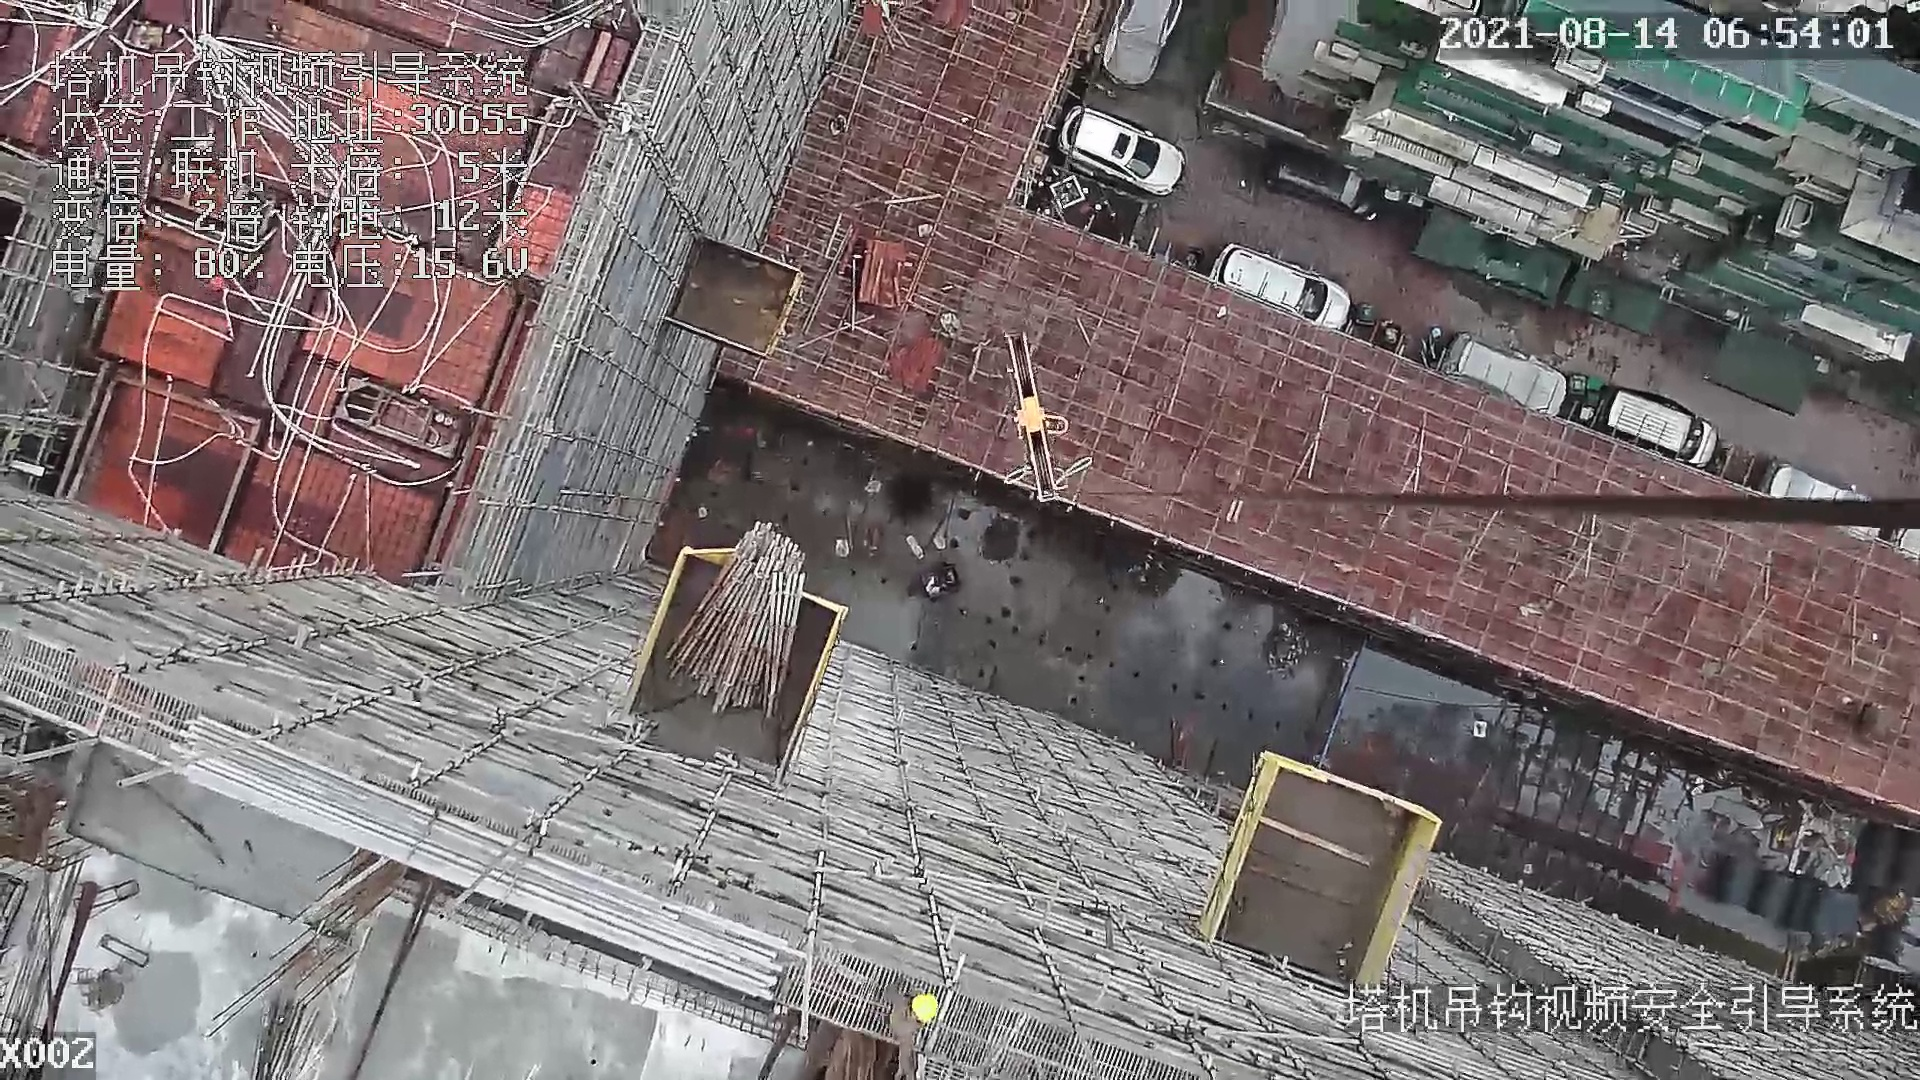helmet: (909, 994, 939, 1025)
hook: (1003, 327, 1068, 492)
person: (886, 977, 937, 1063)
rebar: (167, 720, 797, 1011), (247, 1011, 309, 1080)
scaffold: (665, 520, 807, 717)
